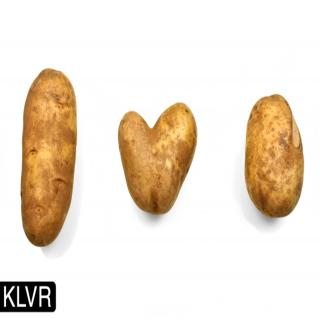Potato: (20, 67, 76, 247), (118, 100, 197, 216), (244, 92, 304, 216)
